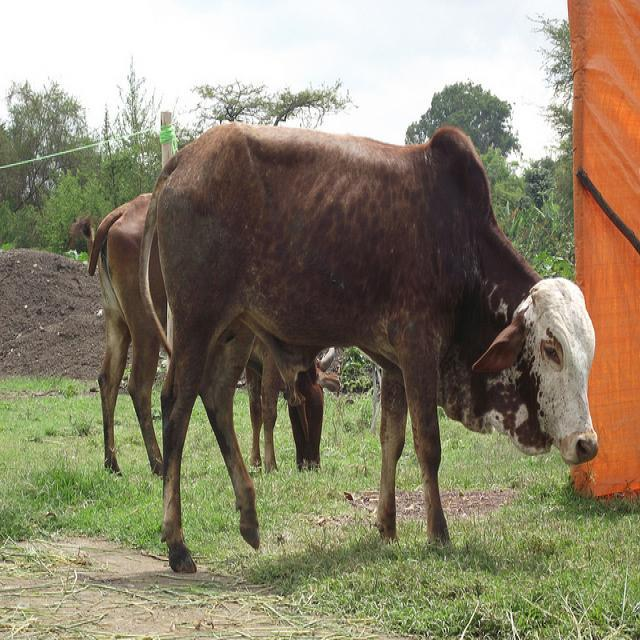cow: (138, 116, 600, 572), (59, 192, 339, 479)
